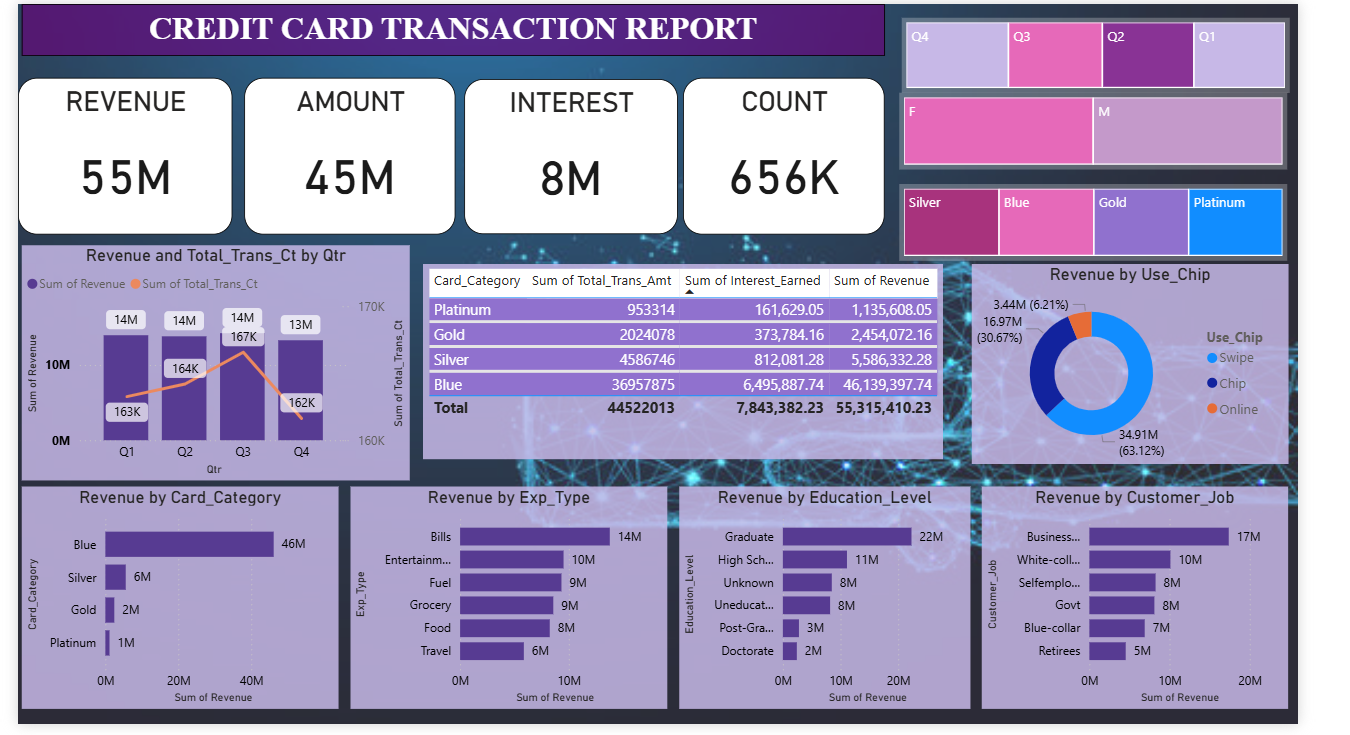

What the dashboard file says about the page in this screenshot:
{"tool":"powerbi","page":{"name":"CC TRANSACTION REPORT","canvas":[1280,720],"ordinal":0},"visuals":[{"type":"textbox","box":[3.3,0,863.3,51.7],"z":0},{"type":"lineStackedColumnComboChart","title":" Revenue and  Total_Trans_Ct by Qtr","fields":{"Y":["Sum(ccd cc_details.Revenue)"],"Y2":["Sum(ccd cc_details.Total_Trans_Ct)"],"Category":["ccd cc_details.Qtr"]},"box":[3.3,241.7,388.3,235],"z":1000},{"type":"clusteredBarChart","title":"Revenue by Exp_Type","fields":{"Y":["Sum(ccd cc_details.Revenue)"],"Category":["ccd cc_details.Exp_Type"]},"box":[332.1,483,317,222.3],"z":2000},{"type":"clusteredBarChart","title":"Revenue by Education_Level","fields":{"Y":["Sum(ccd cc_details.Revenue)"],"Category":["ccd customerd.Education_Level"]},"box":[661.4,483,290.9,222.3],"z":3000},{"type":"barChart","title":"Revenue by Customer_Job","fields":{"Category":["ccd customerd.Customer_Job"],"Y":["Sum(ccd cc_details.Revenue)"]},"box":[963.3,483,306,222.3],"z":4000},{"type":"clusteredBarChart","title":" Revenue by Card_Category","fields":{"Y":["Sum(ccd cc_details.Revenue)"],"Category":["ccd cc_details.Card_Category"]},"box":[4.1,483,317,222.3],"z":5000},{"type":"donutChart","title":"Revenue by Use_Chip","fields":{"Category":["ccd cc_details.Use_Chip"],"Y":["Sum(ccd cc_details.Revenue)"]},"box":[953.3,260,316.7,200],"z":6000},{"type":"tableEx","fields":{"Values":["ccd cc_details.Card_Category","Sum(ccd cc_details.Total_Trans_Amt)","Sum(ccd cc_details.Interest_Earned)","Sum(ccd cc_details.Revenue)"]},"box":[405,260,520,195],"z":7000},{"type":"card","title":"REVENUE","fields":{"Values":["Sum(ccd cc_details.Revenue)"]},"box":[0,74.1,214.1,156.4],"z":8000},{"type":"card","title":" AMOUNT","fields":{"Values":["Sum(ccd cc_details.Total_Trans_Amt)"]},"box":[226.4,74.1,211.3,156.4],"z":9000},{"type":"card","title":"INTEREST ","fields":{"Values":["Sum(ccd cc_details.Interest_Earned)"]},"box":[446.7,75,213.3,155],"z":10000},{"type":"card","title":"COUNT ","fields":{"Values":["Sum(ccd cc_details.Total_Trans_Ct)"]},"box":[665.5,74.1,201.7,156.4],"z":11000},{"type":"treemap","fields":{"Group":["ccd cc_details.Qtr"],"Values":["Avg(ccd cc_details.Client_Num)"]},"box":[883.3,13.3,388.3,75],"z":12000},{"type":"treemap","fields":{"Values":["Avg(ccd cc_details.Client_Num)"],"Group":["ccd customerd.Gender"]},"box":[881.7,88.3,388.3,76.7],"z":13000},{"type":"treemap","fields":{"Values":["Avg(ccd cc_details.Client_Num)"],"Group":["ccd cc_details.Card_Category","ccd customerd.Gender"]},"box":[881.7,180,388.3,76.7],"z":14000}]}

Visuals, with their boxes on the page's 1280x720 design canvas (x1, y1, x2, y2). These are canvas units, not pixel positions in the 1350x735 screenshot, which may show the page scaled, cropped or inside an application window:
textbox: pyautogui.locateOnScreen(3, 0, 867, 52)
" Revenue and  Total_Trans_Ct by Qtr" lineStackedColumnComboChart: pyautogui.locateOnScreen(3, 242, 392, 477)
"Revenue by Exp_Type" clusteredBarChart: pyautogui.locateOnScreen(332, 483, 649, 705)
"Revenue by Education_Level" clusteredBarChart: pyautogui.locateOnScreen(661, 483, 952, 705)
"Revenue by Customer_Job" barChart: pyautogui.locateOnScreen(963, 483, 1269, 705)
" Revenue by Card_Category" clusteredBarChart: pyautogui.locateOnScreen(4, 483, 321, 705)
"Revenue by Use_Chip" donutChart: pyautogui.locateOnScreen(953, 260, 1270, 460)
tableEx - ccd cc_details.Card_Category x Sum(ccd cc_details.Total_Trans_Amt): pyautogui.locateOnScreen(405, 260, 925, 455)
"REVENUE" card: pyautogui.locateOnScreen(0, 74, 214, 230)
" AMOUNT" card: pyautogui.locateOnScreen(226, 74, 438, 230)
"INTEREST " card: pyautogui.locateOnScreen(447, 75, 660, 230)
"COUNT " card: pyautogui.locateOnScreen(666, 74, 867, 230)
treemap - ccd cc_details.Qtr x Avg(ccd cc_details.Client_Num): pyautogui.locateOnScreen(883, 13, 1272, 88)
treemap - Avg(ccd cc_details.Client_Num) x ccd customerd.Gender: pyautogui.locateOnScreen(882, 88, 1270, 165)
treemap - Avg(ccd cc_details.Client_Num) x ccd cc_details.Card_Category: pyautogui.locateOnScreen(882, 180, 1270, 257)
